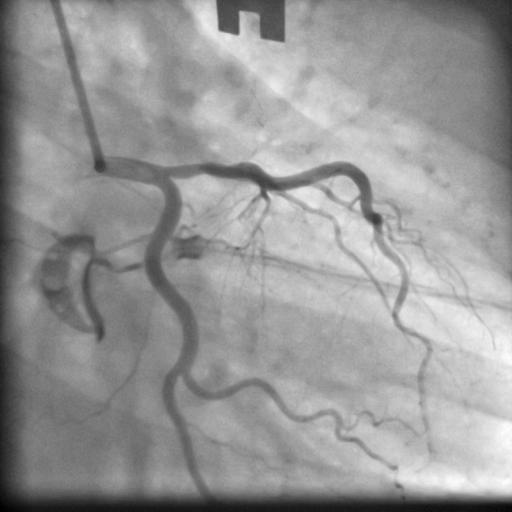Stenosis: (180, 159, 230, 177)
